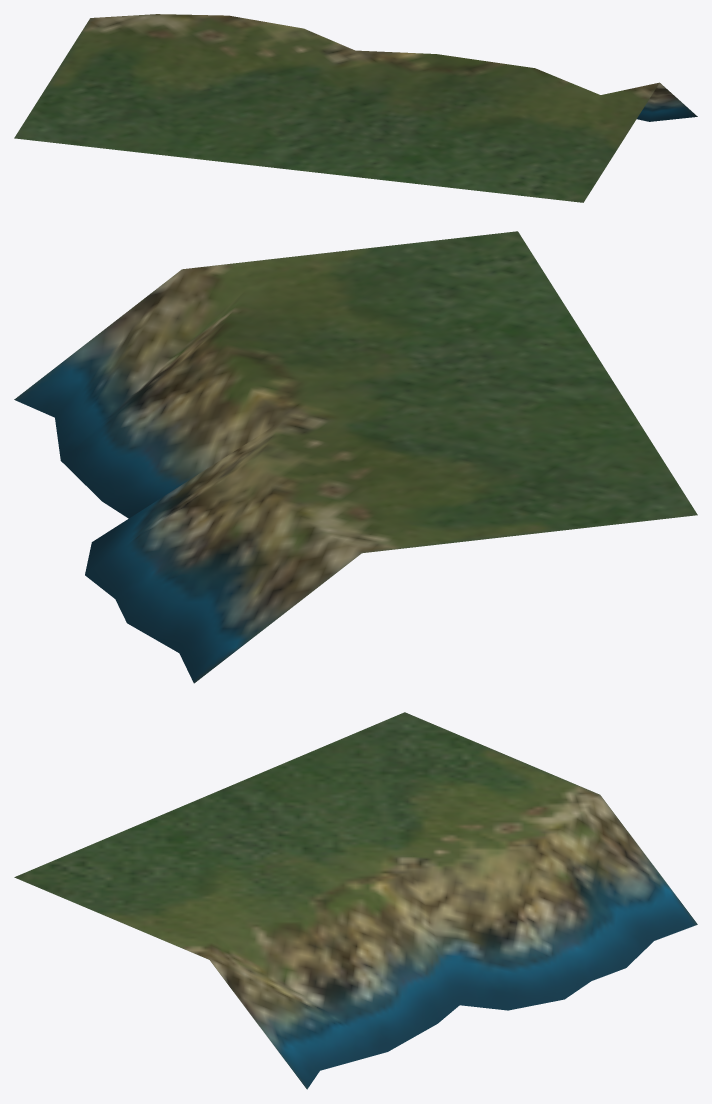
File: Terrain@187.FBX
The picture shows the model from 3 angles, top to bottom: view 1: azimuth 30°, elevation 25°; view 2: azimuth 150°, elevation 25°; view 3: azimuth 270°, elevation 25°; orthographic projection. The views are drawn at different scales.
Visible parts, largest first — view 1: Terrain@187; view 2: Terrain@187; view 3: Terrain@187.
Part boxes in pixels (bbox=[...]): Terrain@187: bbox=[14, 14, 697, 202]; Terrain@187: bbox=[14, 231, 697, 683]; Terrain@187: bbox=[14, 712, 697, 1089].
Size of the model in its own units: 124 by 17.68 by 124.
